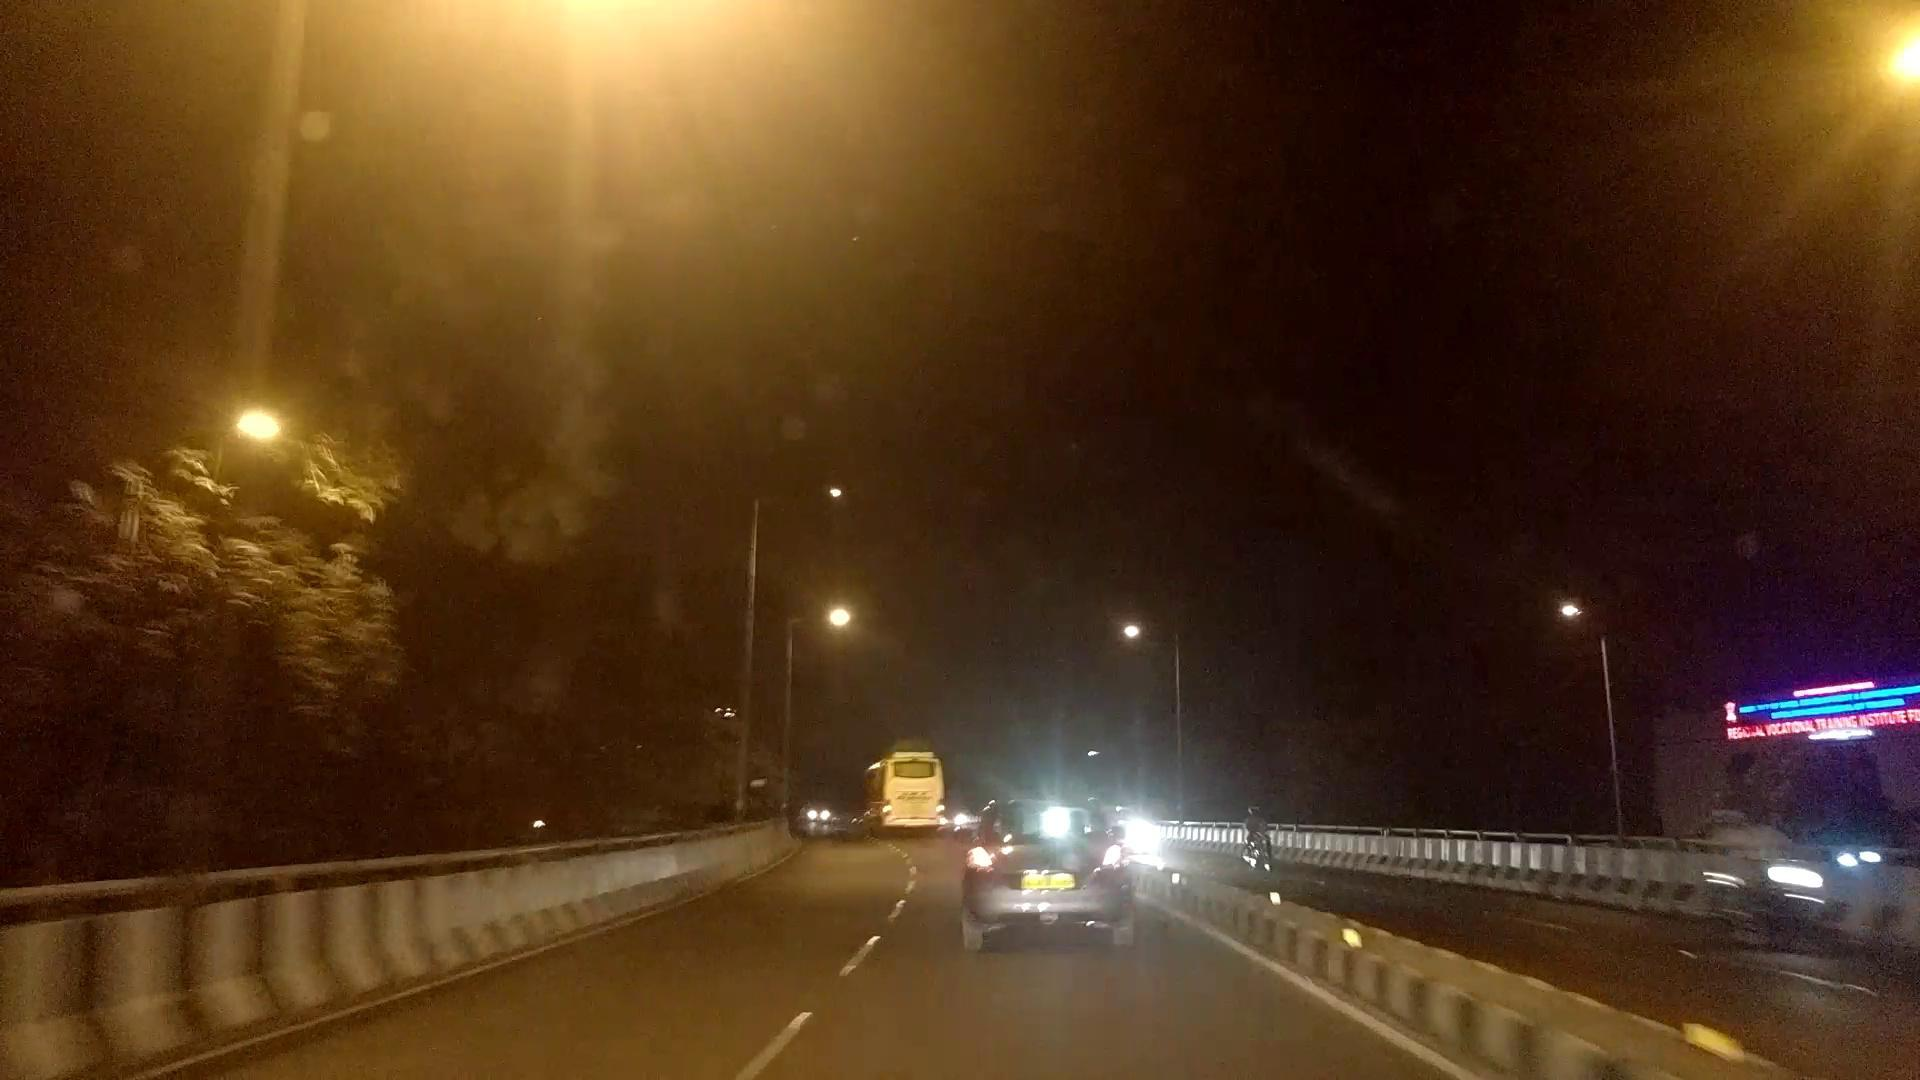on: (1700, 0, 1920, 315), (120, 372, 392, 595)
